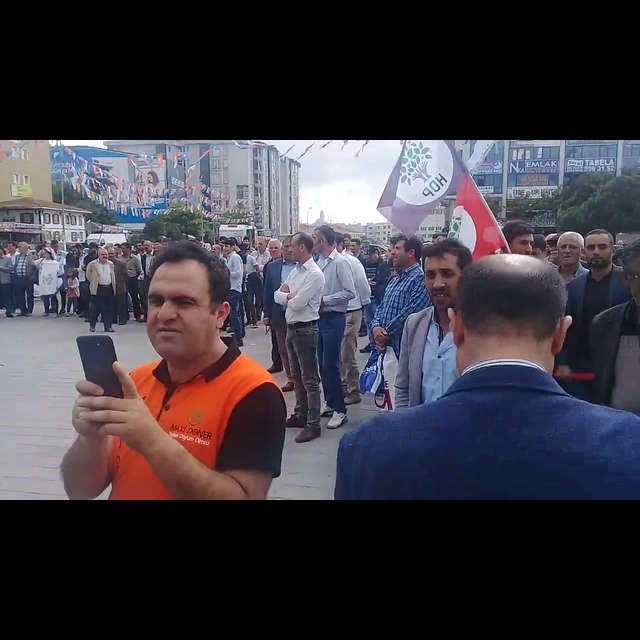HDP: (398, 139, 431, 186)
